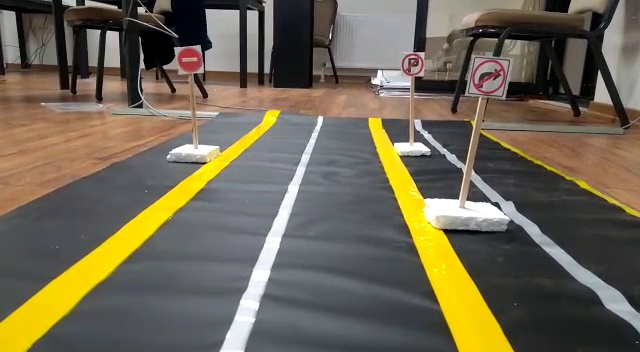girisi_olmayan_yol: (173, 43, 204, 72)
park_yapilmaz: (399, 52, 426, 75)
saga_donulmez: (470, 56, 506, 95)
